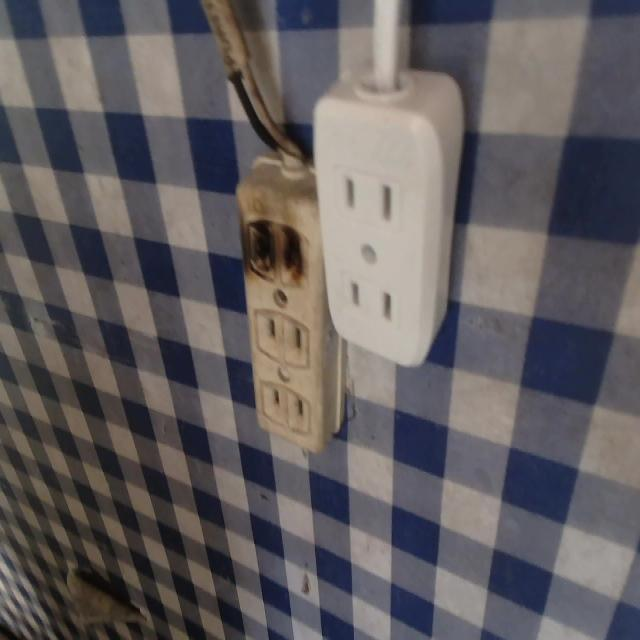-: (243, 206, 314, 286)
